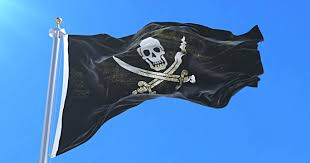Jolly Roger Flag: (51, 22, 268, 156)
